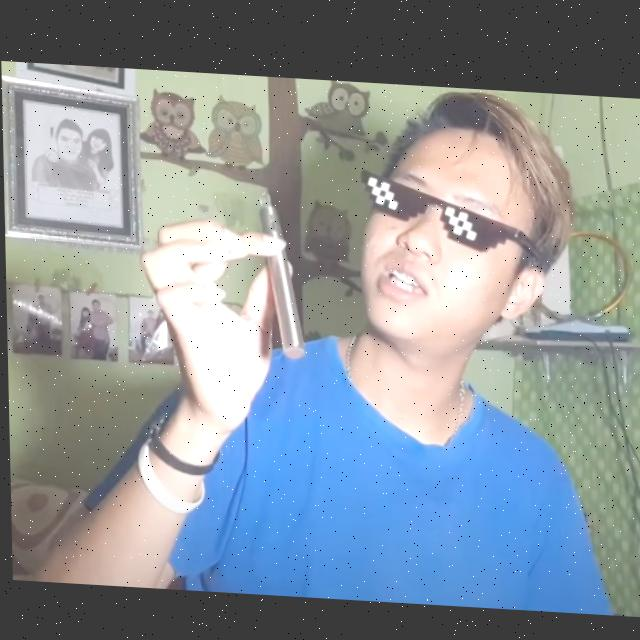vape: (257, 183, 304, 354)
